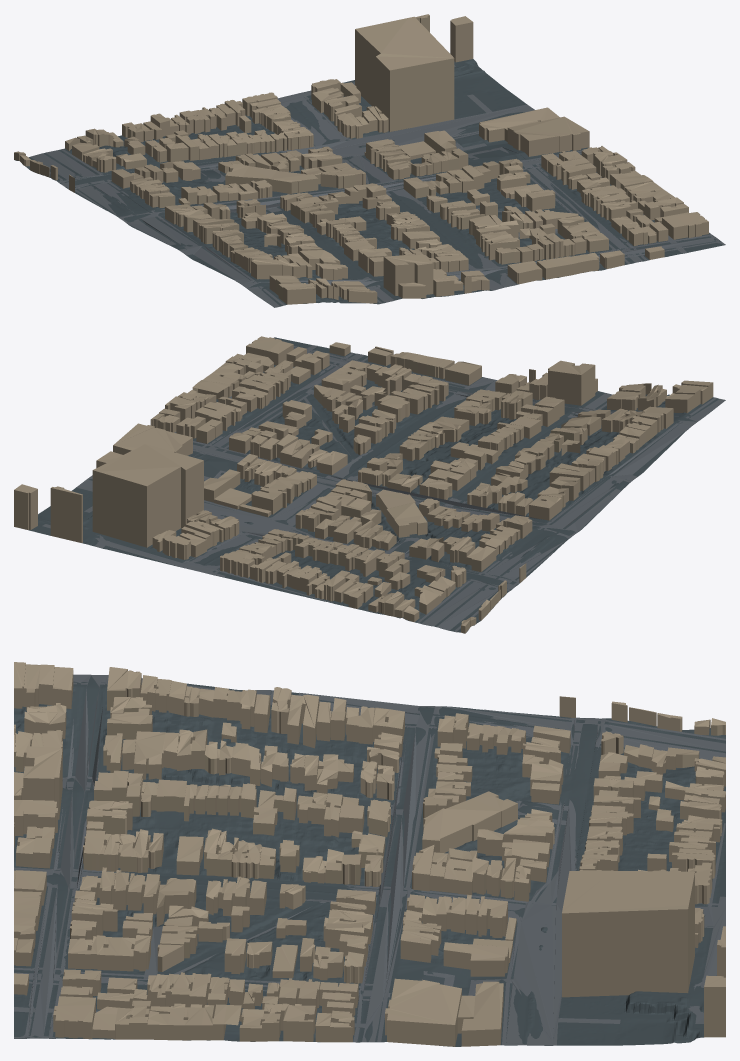
The model's file is epsg26910-1434-10880.lod0.glb.
The picture shows the model from 3 angles, top to bottom: view 1: azimuth 30°, elevation 25°; view 2: azimuth 150°, elevation 25°; view 3: azimuth 270°, elevation 25°; orthographic projection. The views are drawn at different scales.
Parts seen in each view (by area): view 1: epsg26910-1434-10880-lod0; view 2: epsg26910-1434-10880-lod0; view 3: epsg26910-1434-10880-lod0.
Boxes of the visible parts, x1,y1,x2,y2 form: epsg26910-1434-10880-lod0: (14, 14, 725, 307); epsg26910-1434-10880-lod0: (14, 336, 725, 633); epsg26910-1434-10880-lod0: (14, 662, 725, 1046).
Size of the model in its own units: 384 by 56.71 by 384.
